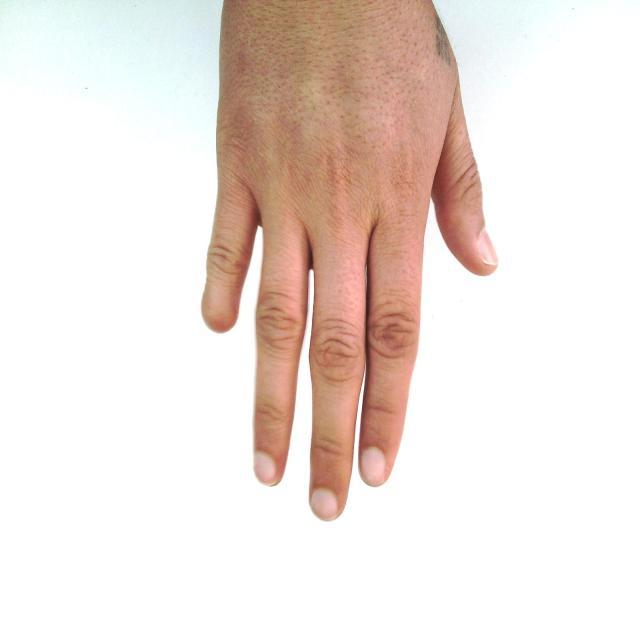Fingernail: (361, 448, 385, 485), (311, 489, 337, 520), (255, 453, 276, 484), (479, 231, 498, 264)
